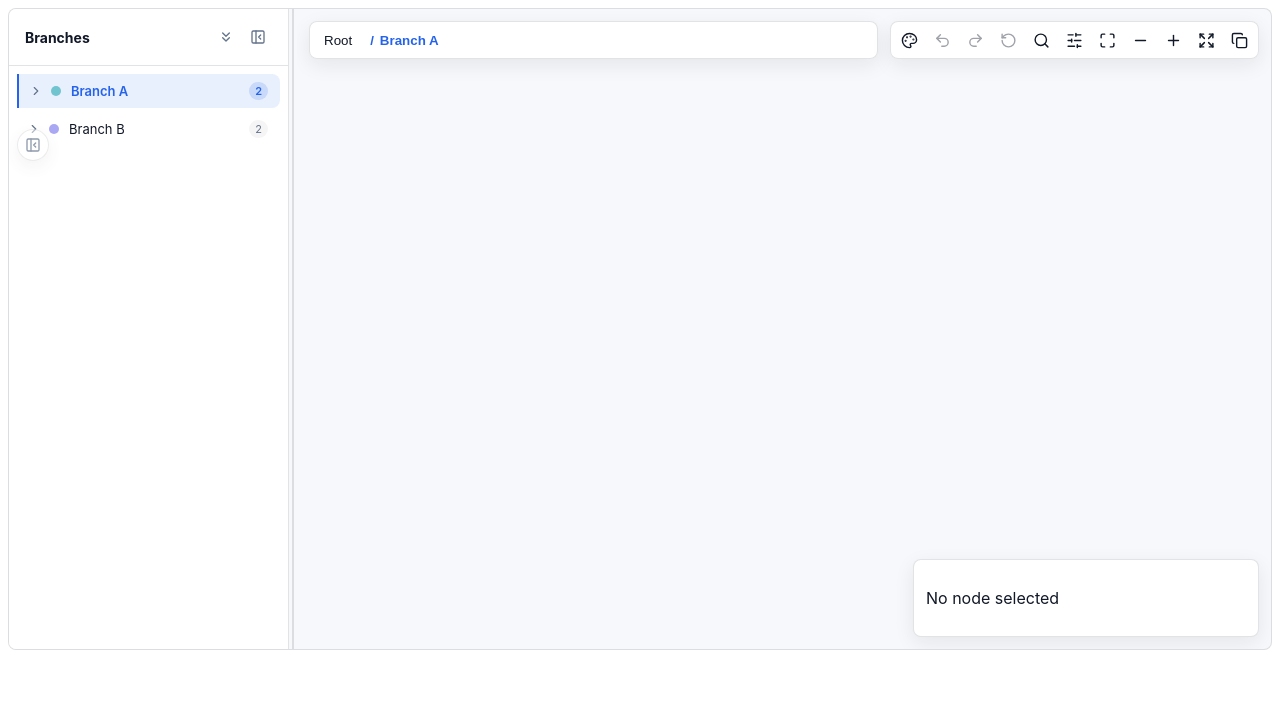
Test: @my-mind-node/react › supports tree folding in the branch sidebar
Expected: the element with class "mmn-branch-list-panel" is shown, [9, 9, 289, 649]
Expected: the number of list items with class "mmn-branch-list-item" is 2, [17, 74, 280, 108]; [27, 120, 268, 138]
Click the 1st element with class "mmn-branch-list-item__toggle": (36, 91) [29, 84, 43, 98]
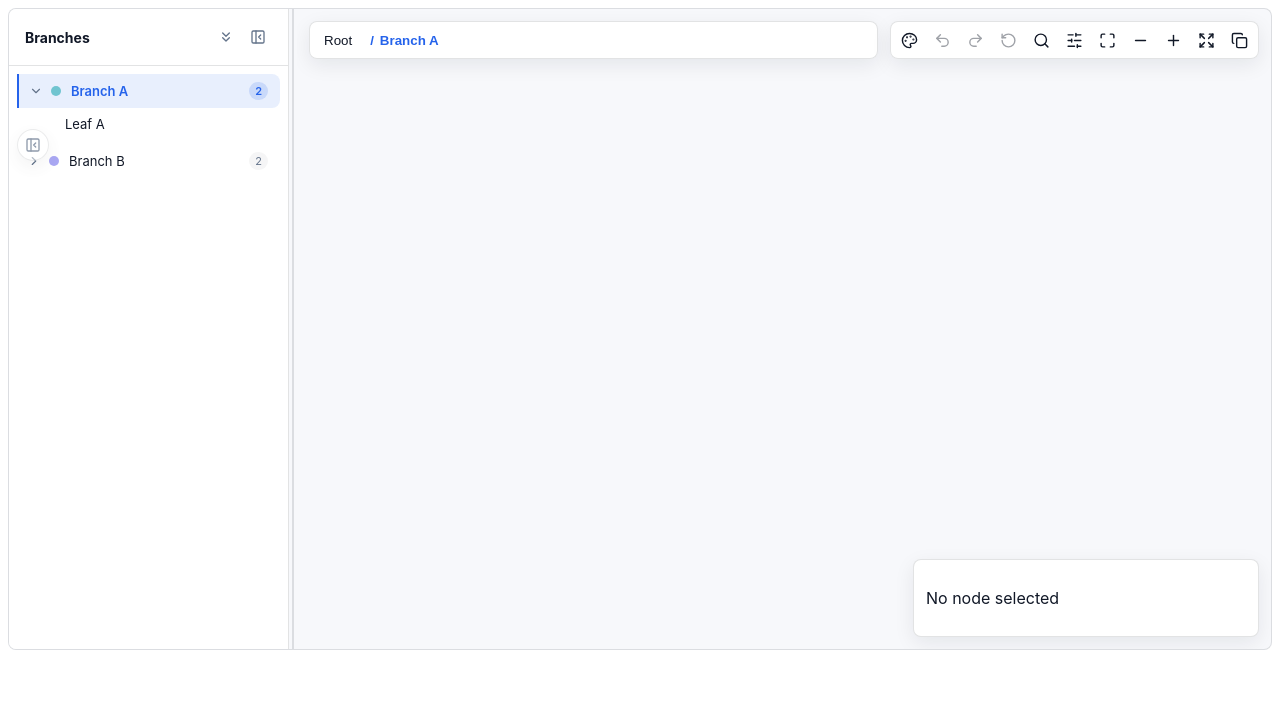
Now the number of list items with class "mmn-branch-list-item" is 3
Press ArrowLeft in the list item with class "mmn-branch-list-item" showing "Branch A 2", box [17, 74, 280, 108]
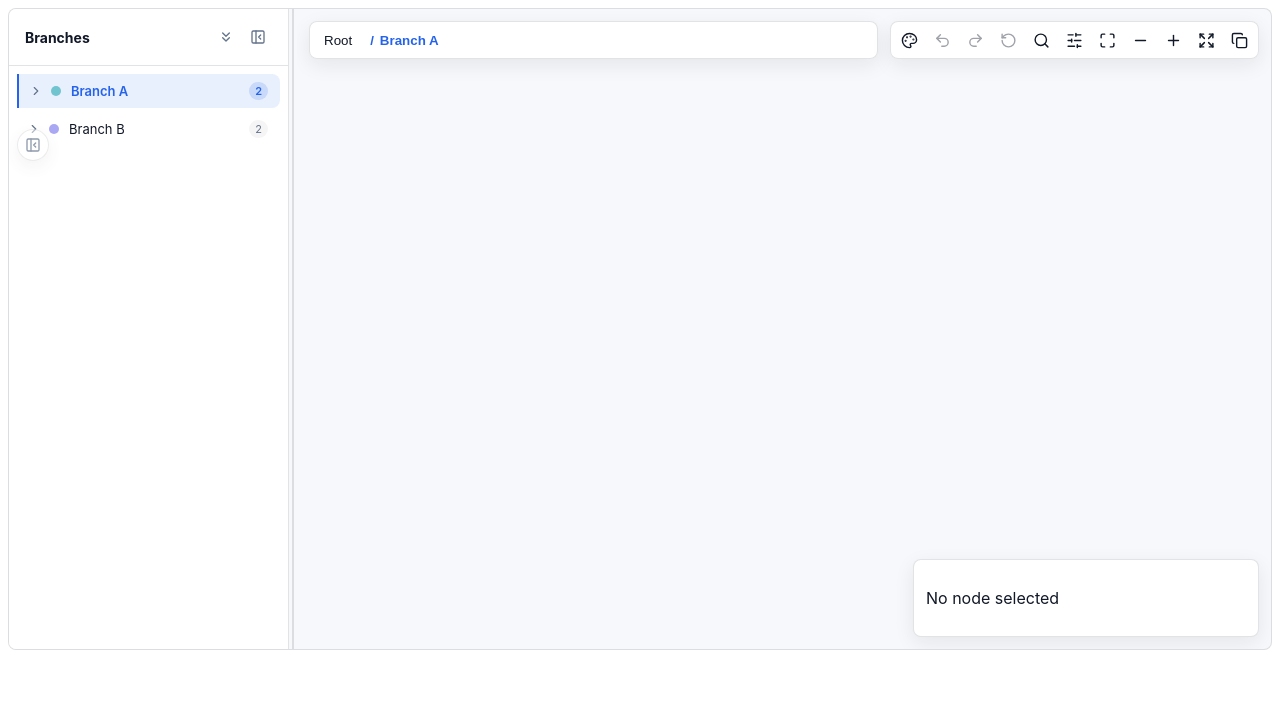
Now the number of list items with class "mmn-branch-list-item" is 2, box [17, 74, 280, 108]; [27, 120, 268, 138]
